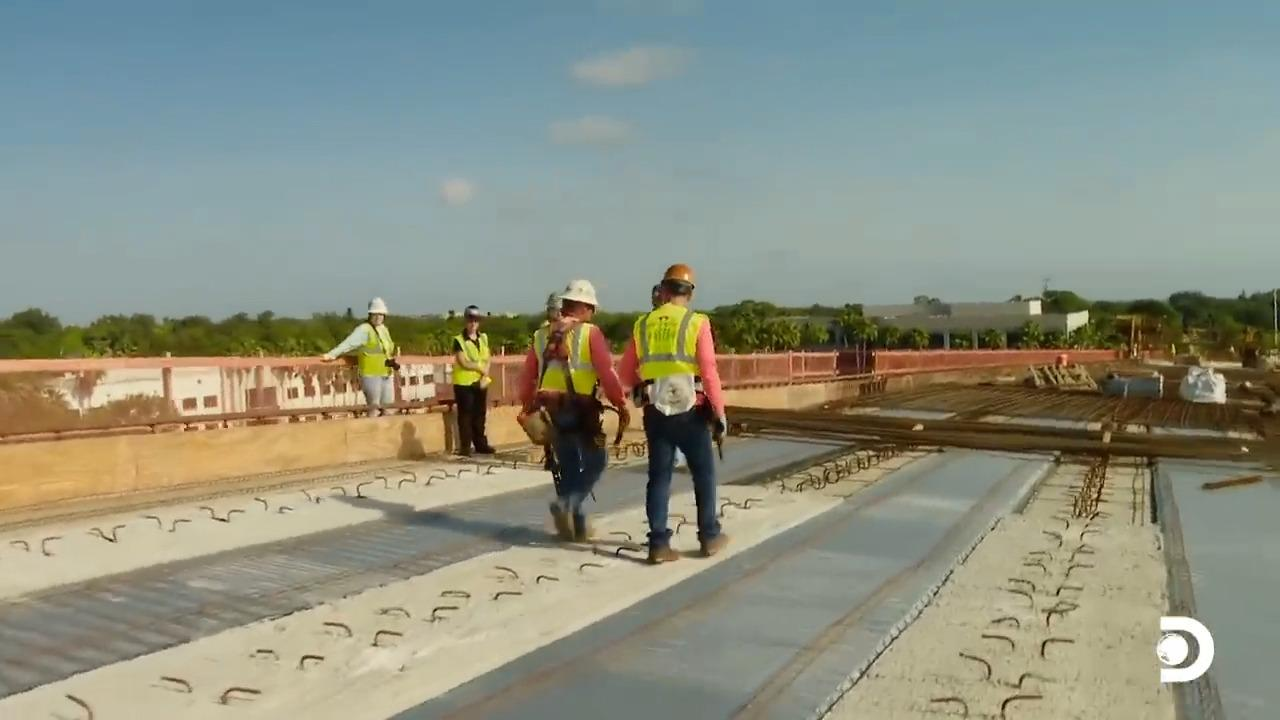Gloves: (711, 415, 731, 447), (616, 402, 633, 429)
Helmet: (558, 278, 598, 307), (662, 263, 695, 290), (367, 296, 388, 315)
Person: (617, 263, 727, 563), (524, 278, 628, 543), (320, 296, 400, 417), (450, 304, 495, 455)
Safety Boot: (647, 538, 685, 564), (554, 507, 574, 541), (701, 533, 731, 555), (576, 520, 593, 541)
Safety Vest: (636, 319, 704, 384), (537, 329, 594, 395), (360, 334, 394, 377), (456, 341, 491, 382)
bare-arms: (477, 365, 489, 375)
